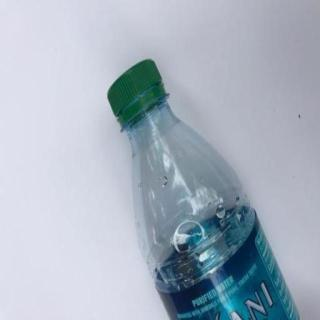Plastic-bottle: (108, 58, 303, 320)
